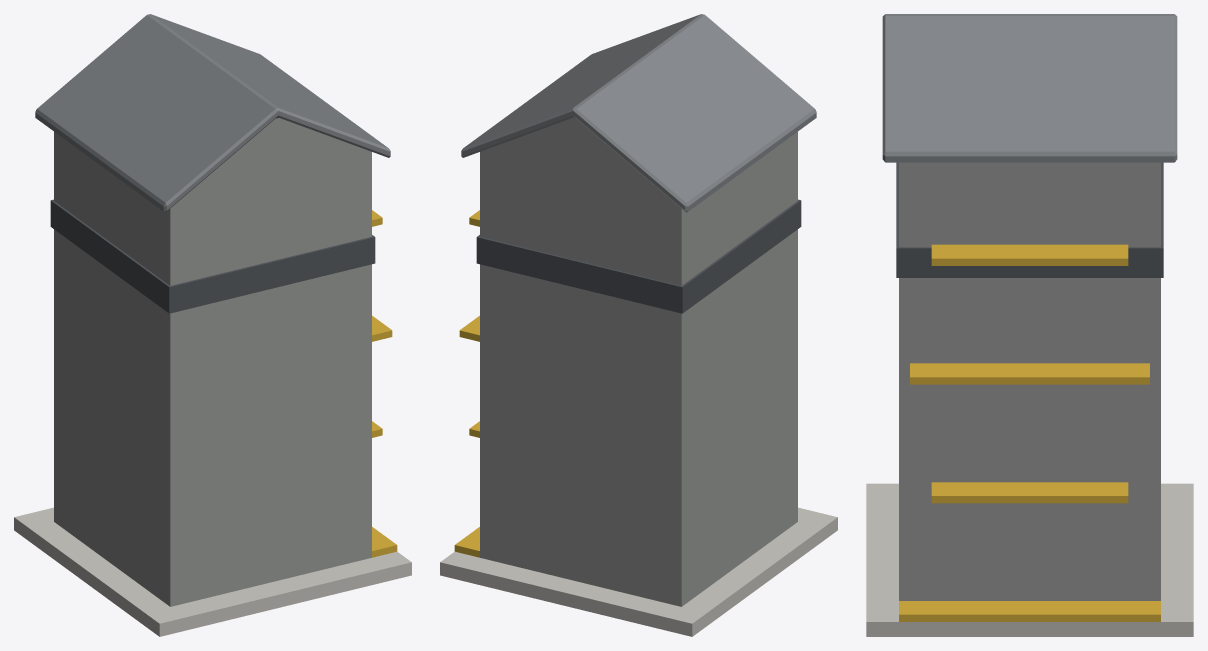
Rendered from link_tower.glb.
3 views of the same model, side by side, from view 1: azimuth 30°, elevation 25°; view 2: azimuth 150°, elevation 25°; view 3: azimuth 270°, elevation 25° (orthographic). The views are drawn at different scales.
Visible parts, largest first — view 1: link_tower; view 2: link_tower; view 3: link_tower.
Boxes of the visible parts, x1,y1,x2,y2 form: link_tower: (14,14,411,636); link_tower: (440,14,837,636); link_tower: (866,14,1193,636).
Size of the model in its own units: 6 by 11.17 by 6.
